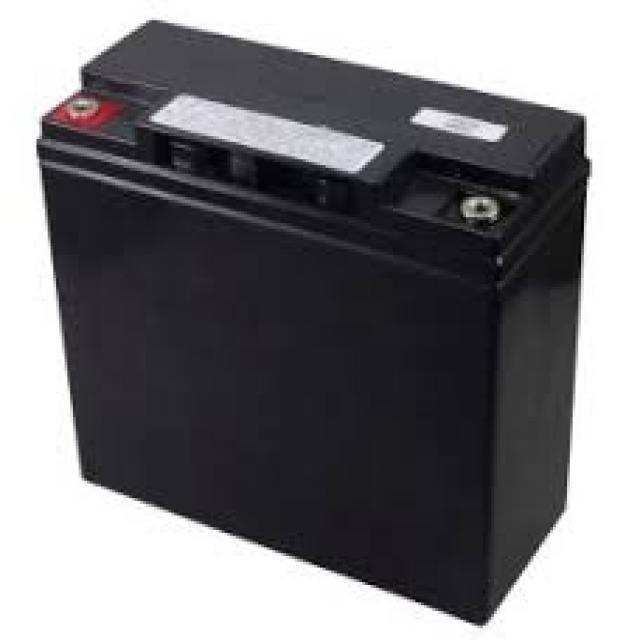battery: (37, 16, 596, 632)
